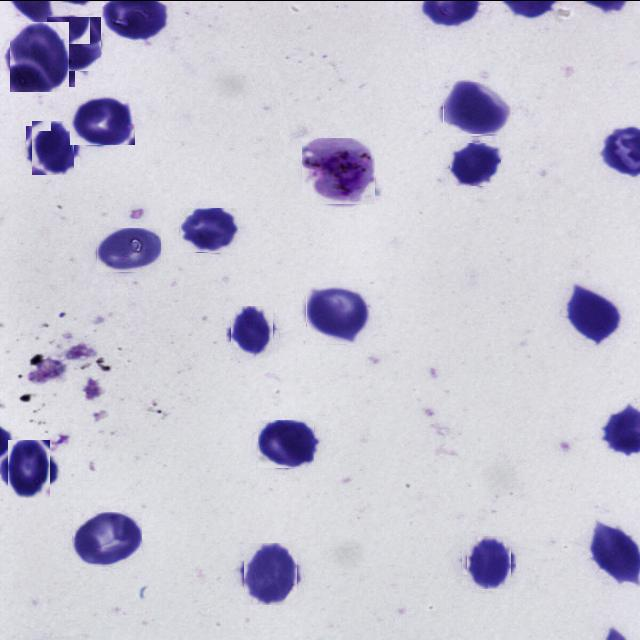red blood cell: (7, 24, 72, 89), (72, 511, 142, 566), (306, 286, 371, 344), (443, 80, 510, 134), (241, 544, 299, 602), (70, 94, 135, 144), (568, 286, 622, 342), (48, 15, 102, 70), (96, 227, 161, 272), (258, 419, 314, 467), (179, 207, 238, 252), (5, 442, 54, 493), (464, 537, 514, 586), (28, 122, 78, 171), (450, 140, 501, 184), (228, 308, 276, 354)
schizont: (301, 137, 375, 204)
